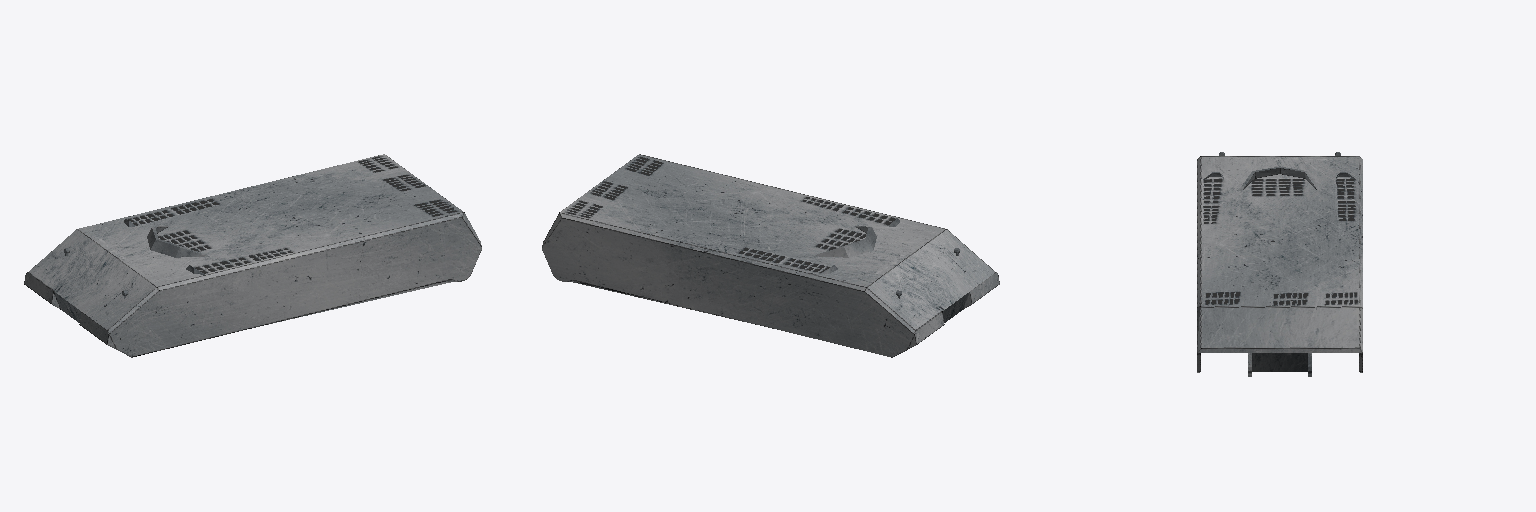
The picture shows the model from 3 angles: view 1: azimuth 30°, elevation 25°; view 2: azimuth 150°, elevation 25°; view 3: azimuth 270°, elevation 25°; orthographic projection.
Parts seen in each view (by area): view 1: body_Cube.001; view 2: body_Cube.001; view 3: body_Cube.001.
Boxes of the visible parts, <box> form: body_Cube.001: <box>24,154,481,357</box>; body_Cube.001: <box>542,154,999,357</box>; body_Cube.001: <box>1197,152,1362,376</box>.
Size of the model in its own units: 19.63 by 4.02 by 7.42.
Materials: 1 (1 with a texture image).